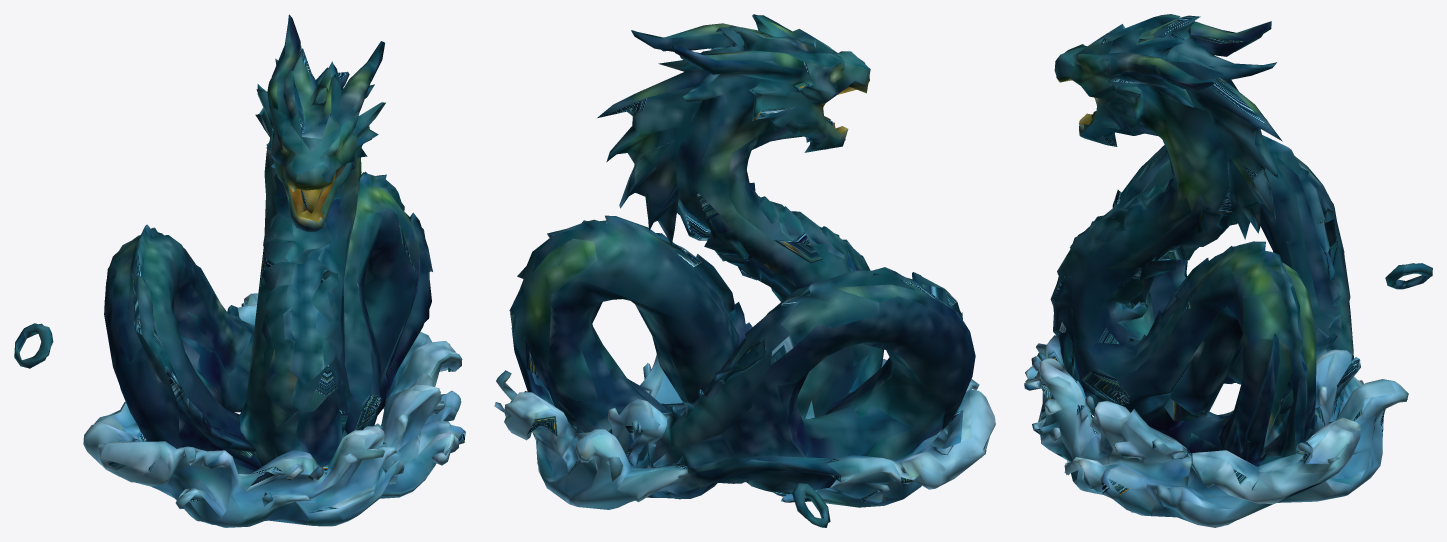
Rendered from leviathan.glb.
3 views of the same model, side by side, from view 1: azimuth 30°, elevation 25°; view 2: azimuth 150°, elevation 25°; view 3: azimuth 270°, elevation 25° (orthographic). The views are drawn at different scales.
Parts seen in each view (by area): view 1: geometry_0; view 2: geometry_0; view 3: geometry_0.
Part boxes in pixels (x1=…): geometry_0: x1=14, y1=14, x2=465, y2=527; geometry_0: x1=494, y1=14, x2=995, y2=527; geometry_0: x1=1024, y1=14, x2=1432, y2=527.
Bounding box in the file's own units: 0.7794 × 0.8246 × 0.6736.
1 material, 1 textured.
